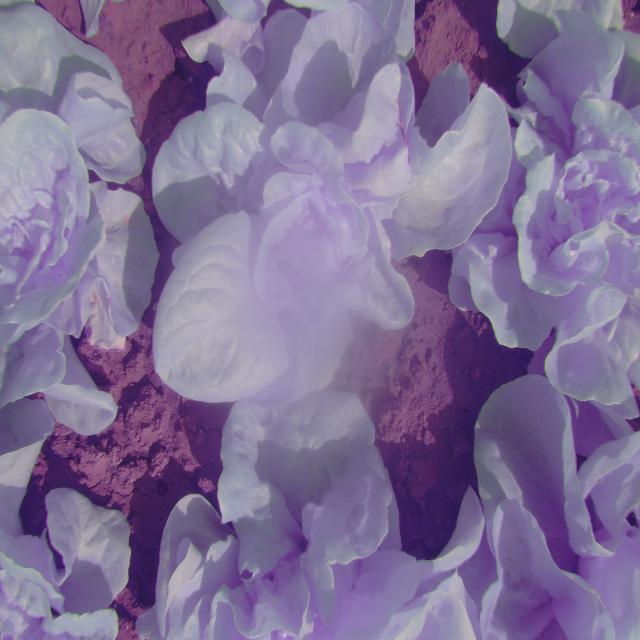vege: (150, 2, 517, 409)
